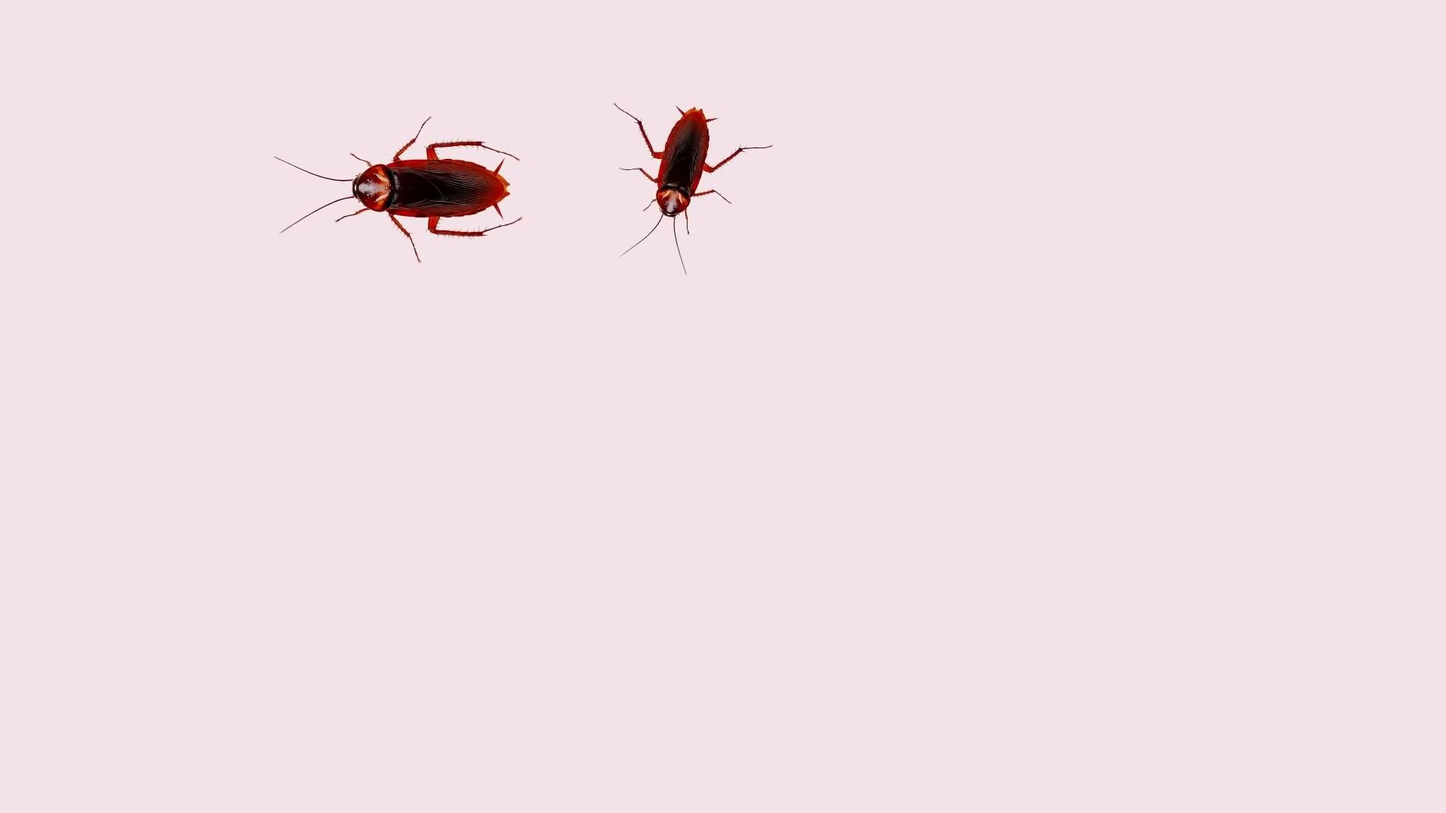cockroach: (298, 134, 524, 247), (616, 96, 733, 265)
